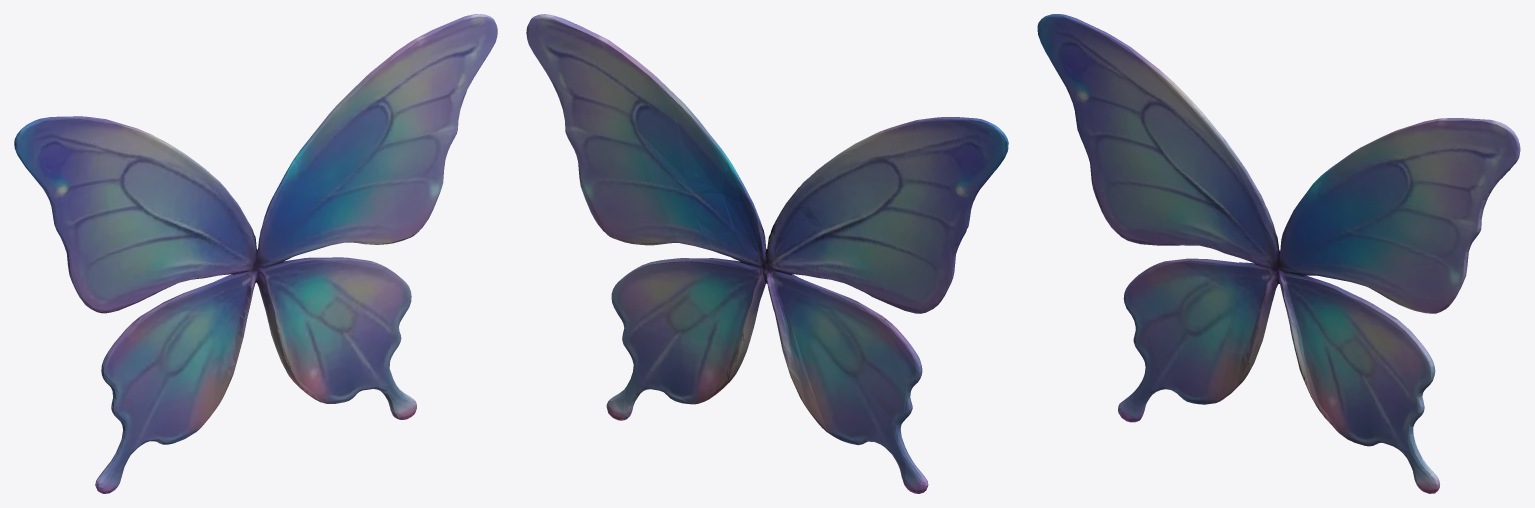
Rendered from blue_butterfly_wings.glb.
The picture shows the model from 3 angles, left to right: view 1: azimuth 30°, elevation 25°; view 2: azimuth 150°, elevation 25°; view 3: azimuth 330°, elevation 25°; orthographic projection.
Visible parts, largest first — view 1: geometry_0; view 2: geometry_0; view 3: geometry_0.
Boxes of the visible parts, bbox=[...] form: geometry_0: bbox=[14, 14, 497, 493]; geometry_0: bbox=[526, 14, 1008, 493]; geometry_0: bbox=[1037, 14, 1520, 493].
Size of the model in its own units: 0.81 by 0.6259 by 0.0269.
1 material, 1 textured.
